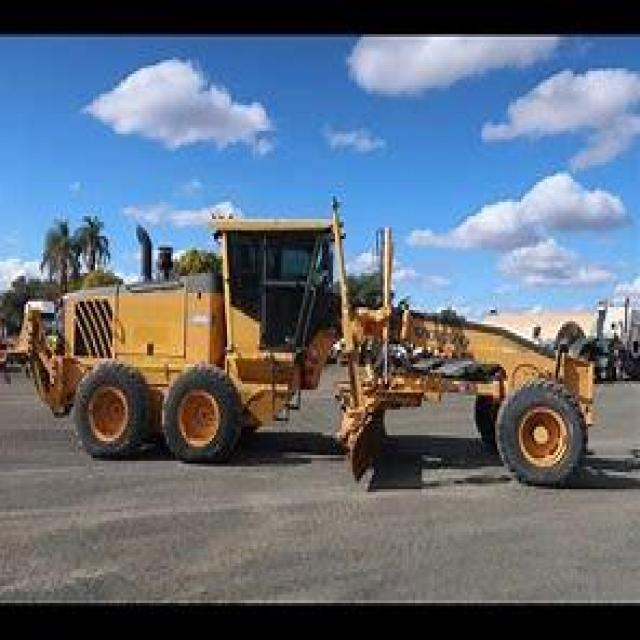Grader: (22, 210, 588, 490)
